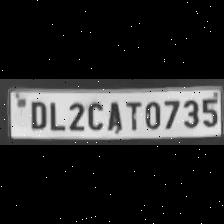0: (142, 98, 162, 130)
2: (65, 99, 85, 130)
3: (180, 96, 198, 130)
5: (199, 95, 219, 127)
7: (161, 97, 179, 129)
A: (104, 98, 122, 132)
C: (86, 98, 104, 130)
D: (26, 98, 46, 130)
L: (46, 99, 64, 130)
T: (122, 98, 142, 132)
